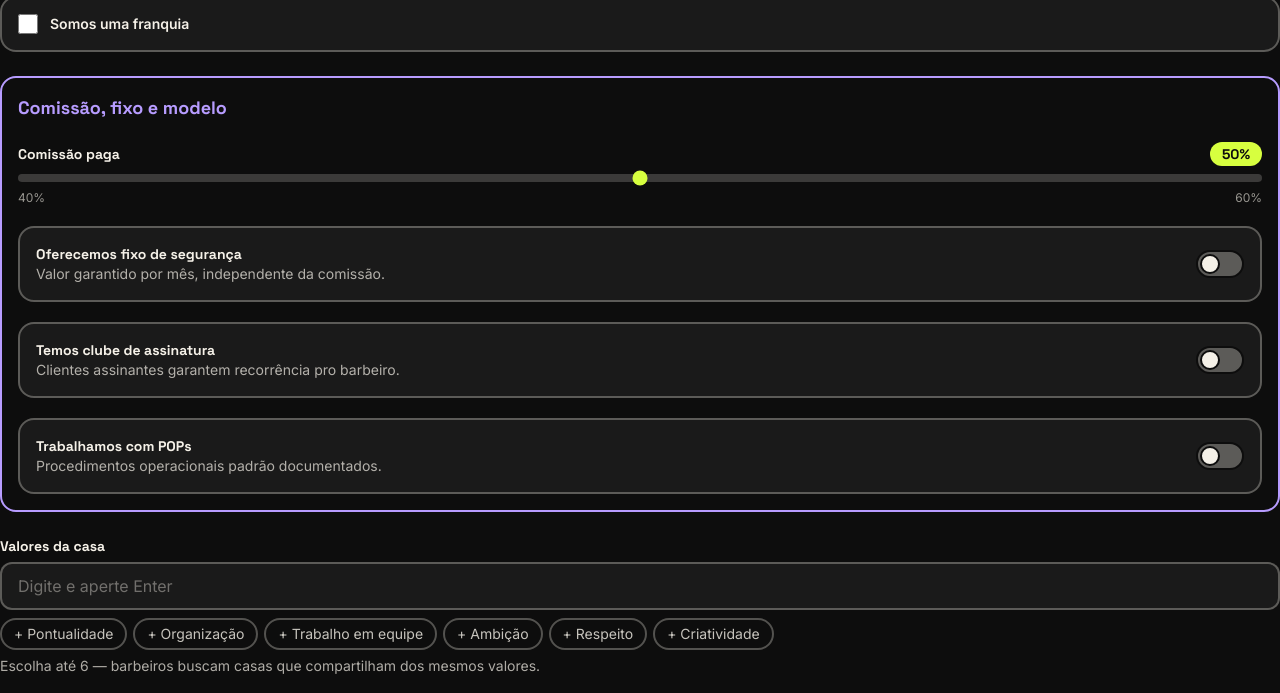
Campos de comissão, fixo e modelo (E02) › mostra a descrição do clube só quando o toggle está ligado (RF33)
(page scrolled)
expect the field labelled "como funciona o clube" is not shown: met
What coordinates should you click on to do the following:
click the switch labelled "clube de assinatura"
I would click on:
 (126, 350)
Its box is [18,322,1262,398].
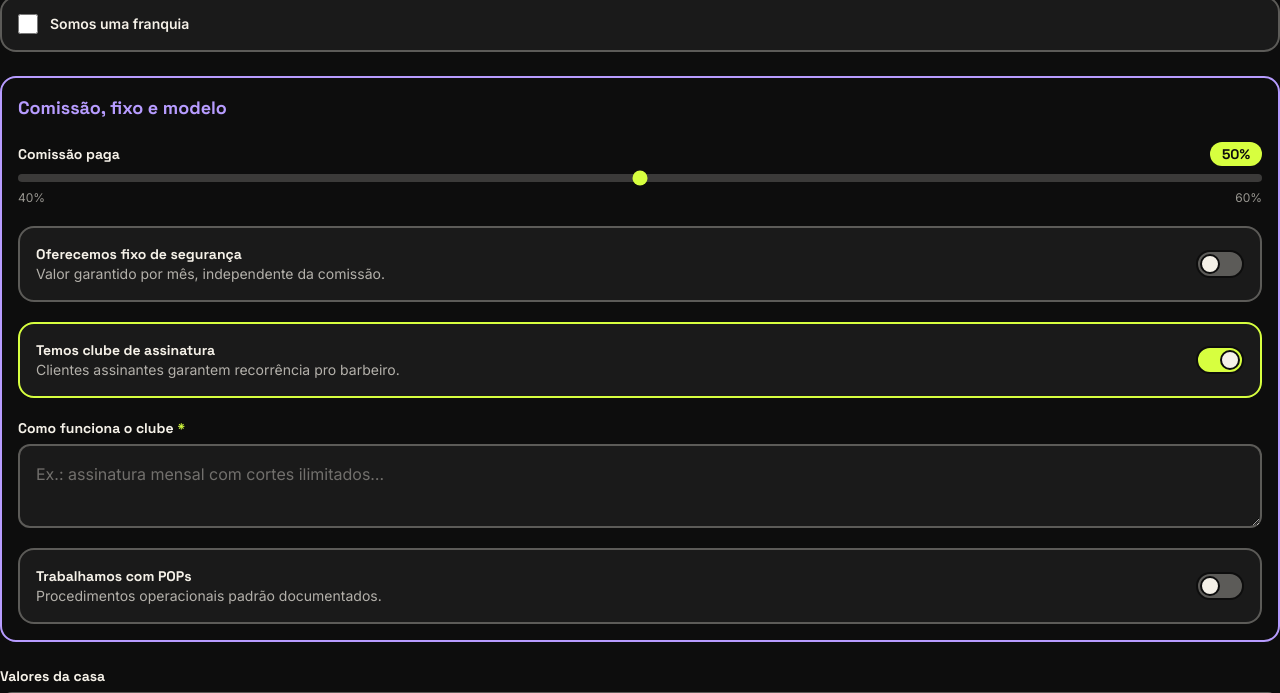
expect the text box labelled "Como funciona o clube*" is shown: met, box [18,444,1262,528]
